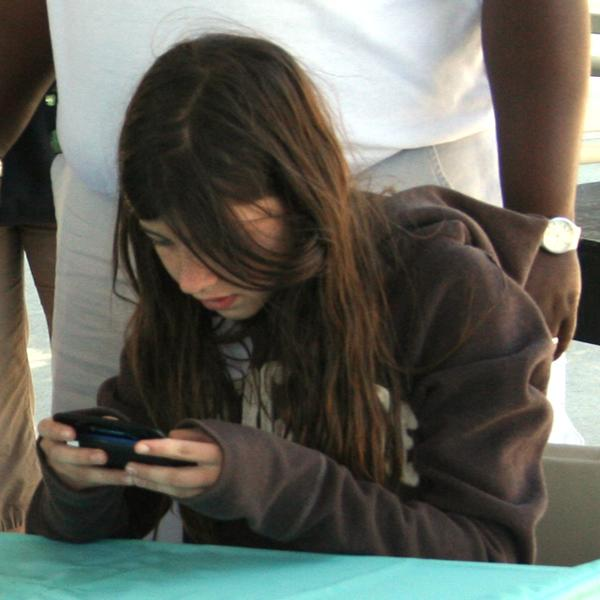person: (23, 33, 551, 568)
